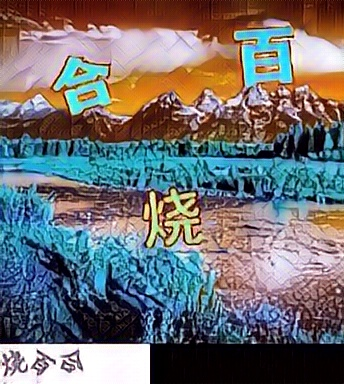B0D9: (231, 23, 297, 87)
BACF: (49, 53, 115, 117)
C9D5: (139, 187, 205, 251)
